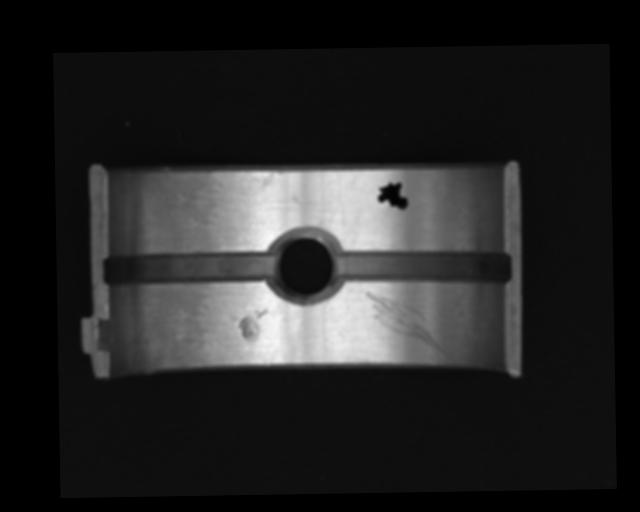blot: (376, 181, 408, 212)
bruise: (237, 306, 268, 340)
gap: (332, 248, 510, 286), (102, 252, 276, 285)
hole: (269, 228, 343, 302)
nick: (366, 290, 447, 360)
